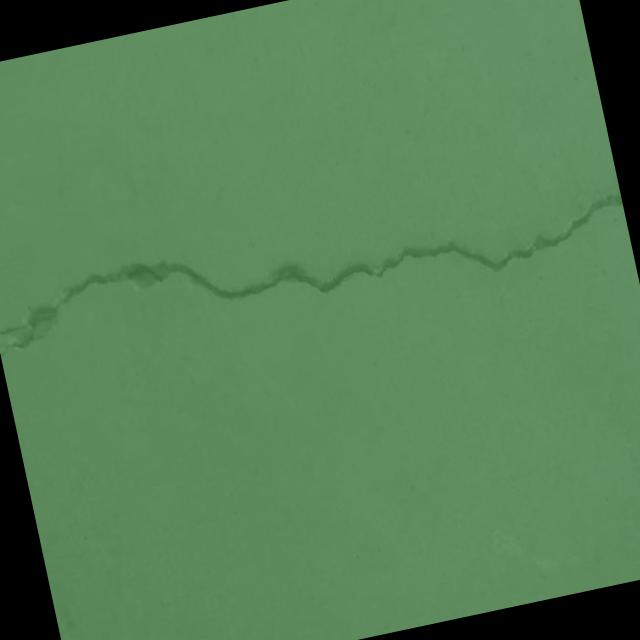crack: (0, 159, 631, 378)
